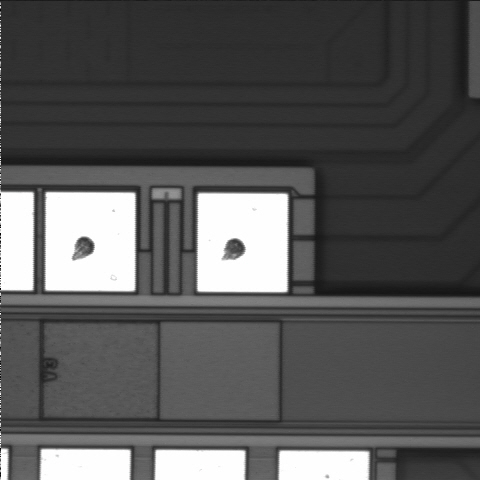pad: (45, 192, 135, 291), (198, 193, 288, 292)
